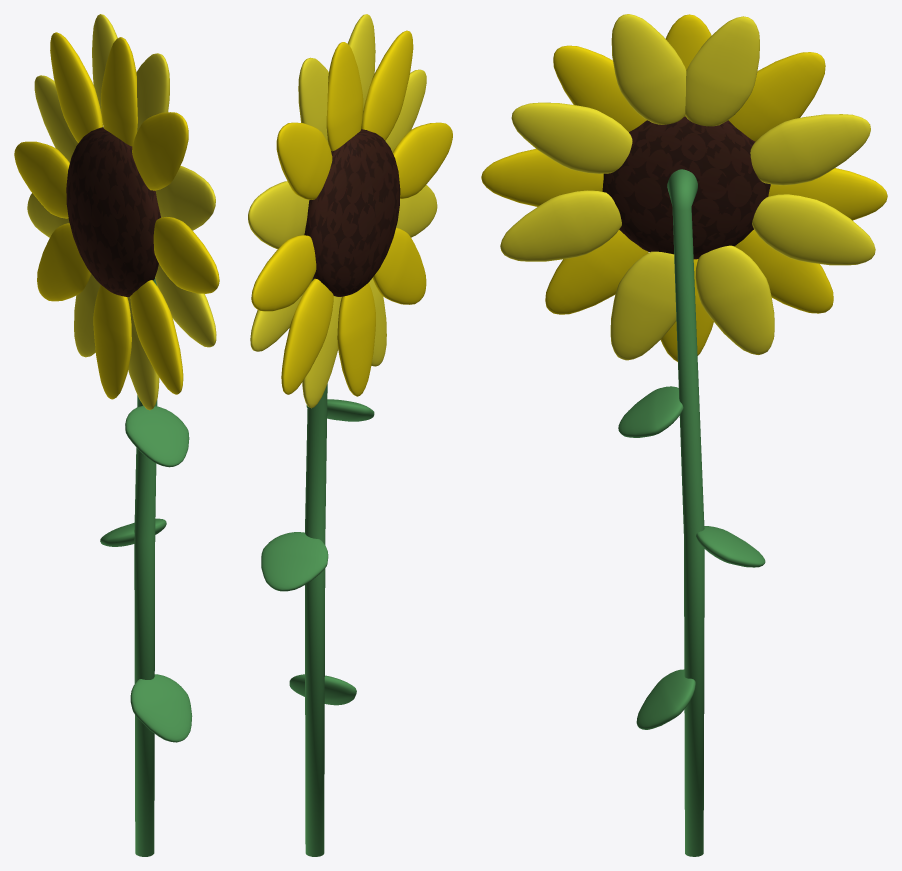
The model's file is sunflowercp.glb.
3 views of the same model, side by side, from view 1: azimuth 30°, elevation 25°; view 2: azimuth 150°, elevation 25°; view 3: azimuth 270°, elevation 25° (orthographic).
Parts seen in each view (by area): view 1: Sphere.017, Cylinder, Sphere.006, Sphere.002, Sphere.004, Sphere.007, Sphere.005, Sphere.003, Sphere.019, Sphere.018, Sphere.001, Sphere.008 (+9 smaller); view 2: Sphere.017, Cylinder, Sphere.008, Sphere.001, Sphere.004, Sphere.007, Sphere.005, Sphere.003, Sphere, Sphere.002, Sphere.009, Sphere.006 (+9 smaller); view 3: Sphere.017, Cylinder, Sphere.016, Sphere.009, Sphere.010, Sphere.012, Sphere.015, Sphere.011, Sphere.013, Sphere.014, Sphere.005, Sphere.006 (+9 smaller).
Boxes of the visible parts, x1=… form: Sphere.017: x1=66, y1=127, x2=160, y2=296; Cylinder: x1=134, y1=278, x2=157, y2=856; Sphere.006: x1=130, y1=280, x2=183, y2=394; Sphere.002: x1=153, y1=217, x2=219, y2=293; Sphere.004: x1=93, y1=285, x2=131, y2=399; Sphere.007: x1=132, y1=112, x2=188, y2=190; Sphere.005: x1=50, y1=32, x2=102, y2=143; Sphere.003: x1=101, y1=37, x2=137, y2=146; Sphere.019: x1=130, y1=674, x2=192, y2=742; Sphere.018: x1=125, y1=405, x2=189, y2=467; Sphere.001: x1=14, y1=141, x2=69, y2=218; Sphere.008: x1=37, y1=223, x2=91, y2=301; Sphere.017: x1=304, y1=129, x2=400, y2=296; Cylinder: x1=304, y1=279, x2=327, y2=856; Sphere.008: x1=281, y1=278, x2=333, y2=394; Sphere.001: x1=251, y1=235, x2=316, y2=311; Sphere.004: x1=337, y1=283, x2=375, y2=396; Sphere.007: x1=361, y1=30, x2=413, y2=140; Sphere.005: x1=276, y1=122, x2=332, y2=199; Sphere.003: x1=326, y1=42, x2=363, y2=151; Sphere: x1=261, y1=532, x2=328, y2=591; Sphere.002: x1=393, y1=122, x2=452, y2=198; Sphere.009: x1=248, y1=181, x2=309, y2=249; Sphere.006: x1=372, y1=228, x2=426, y2=304; Sphere.017: x1=602, y1=116, x2=770, y2=259; Cylinder: x1=667, y1=169, x2=704, y2=856; Sphere.016: x1=752, y1=194, x2=875, y2=265; Sphere.009: x1=750, y1=114, x2=870, y2=185; Sphere.010: x1=500, y1=190, x2=621, y2=261; Sphere.012: x1=695, y1=245, x2=774, y2=354; Sphere.015: x1=511, y1=102, x2=632, y2=173; Sphere.011: x1=611, y1=14, x2=686, y2=124; Sphere.013: x1=685, y1=16, x2=759, y2=126; Sphere.014: x1=610, y1=251, x2=676, y2=360; Sphere.005: x1=728, y1=52, x2=825, y2=141; Sphere.006: x1=545, y1=230, x2=648, y2=314.
Size of the model in its own units: 9.25 by 78.76 by 34.95.
Materials: 5 (1 with a texture image).
